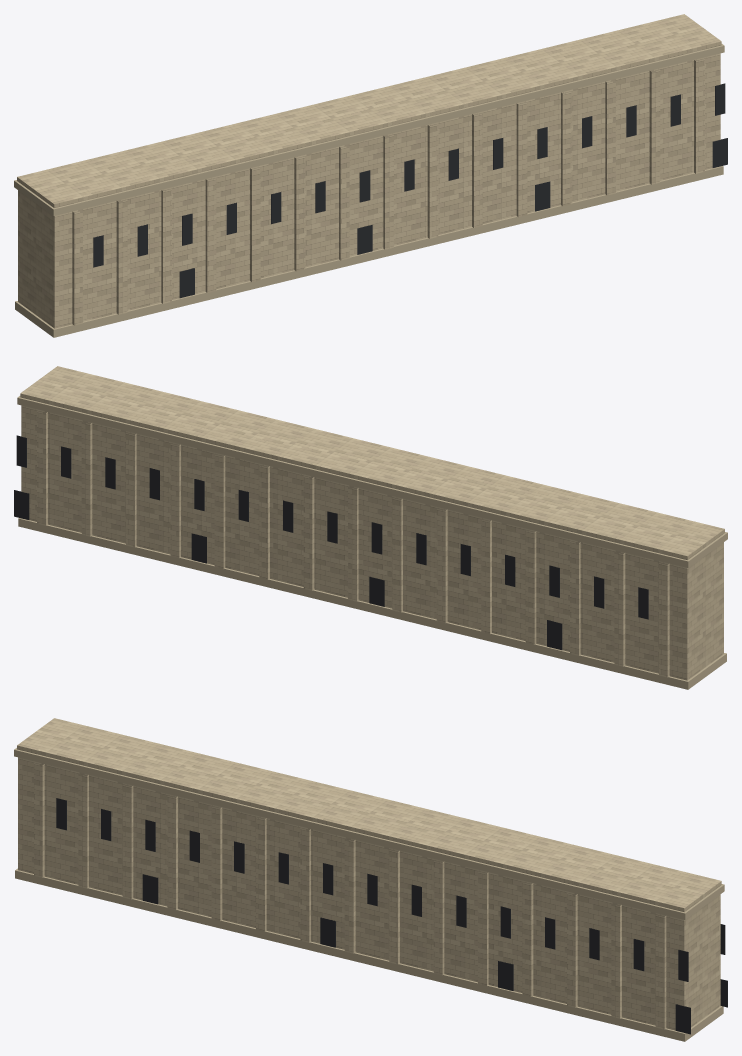
File: soldier_field_wing.glb
3 renders of one model, top to bottom at view 1: azimuth 30°, elevation 25°; view 2: azimuth 150°, elevation 25°; view 3: azimuth 330°, elevation 25°, orthographic.
Parts seen in each view (by area): view 1: soldier_field_wing; view 2: soldier_field_wing; view 3: soldier_field_wing.
Part boxes in pixels (box(x1,y1,x2,y2)): soldier_field_wing: box(14, 14, 727, 337); soldier_field_wing: box(14, 366, 727, 689); soldier_field_wing: box(14, 718, 727, 1041).
Bounding box in the file's own units: 106 × 20 × 11.
2 materials, 2 textured.
